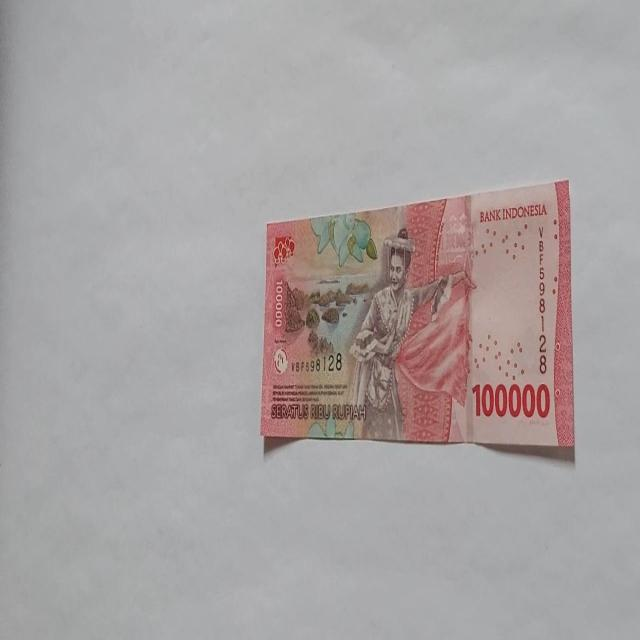Kertas: (260, 178, 574, 457), (471, 380, 551, 420)
